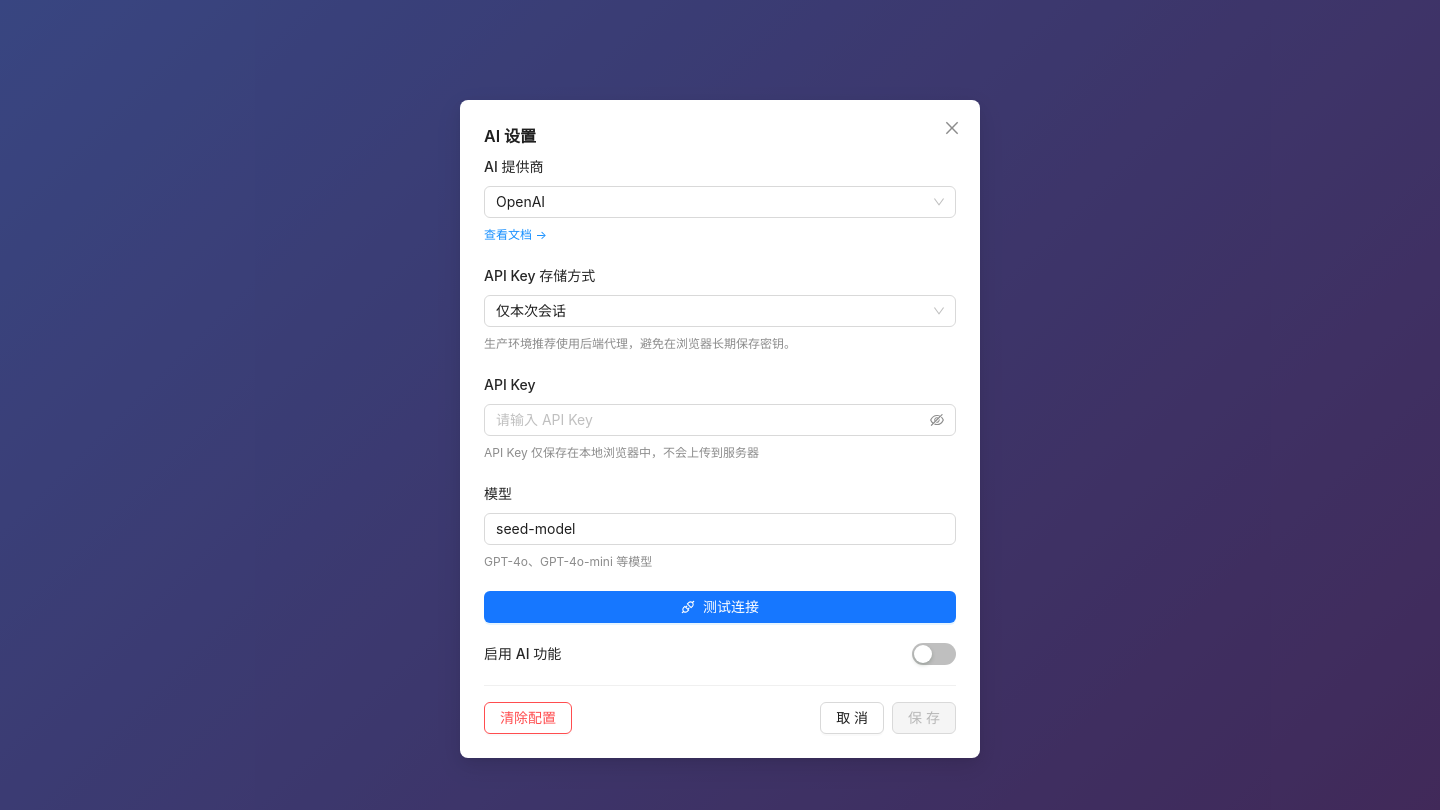
Scenario: AiSettingsModal 连接测试的四种结果 › provider 没给原始错误时退回语言包文案，不把 key 漏给用户
Click the button "测试连接": (720, 607) [484,591,956,623]
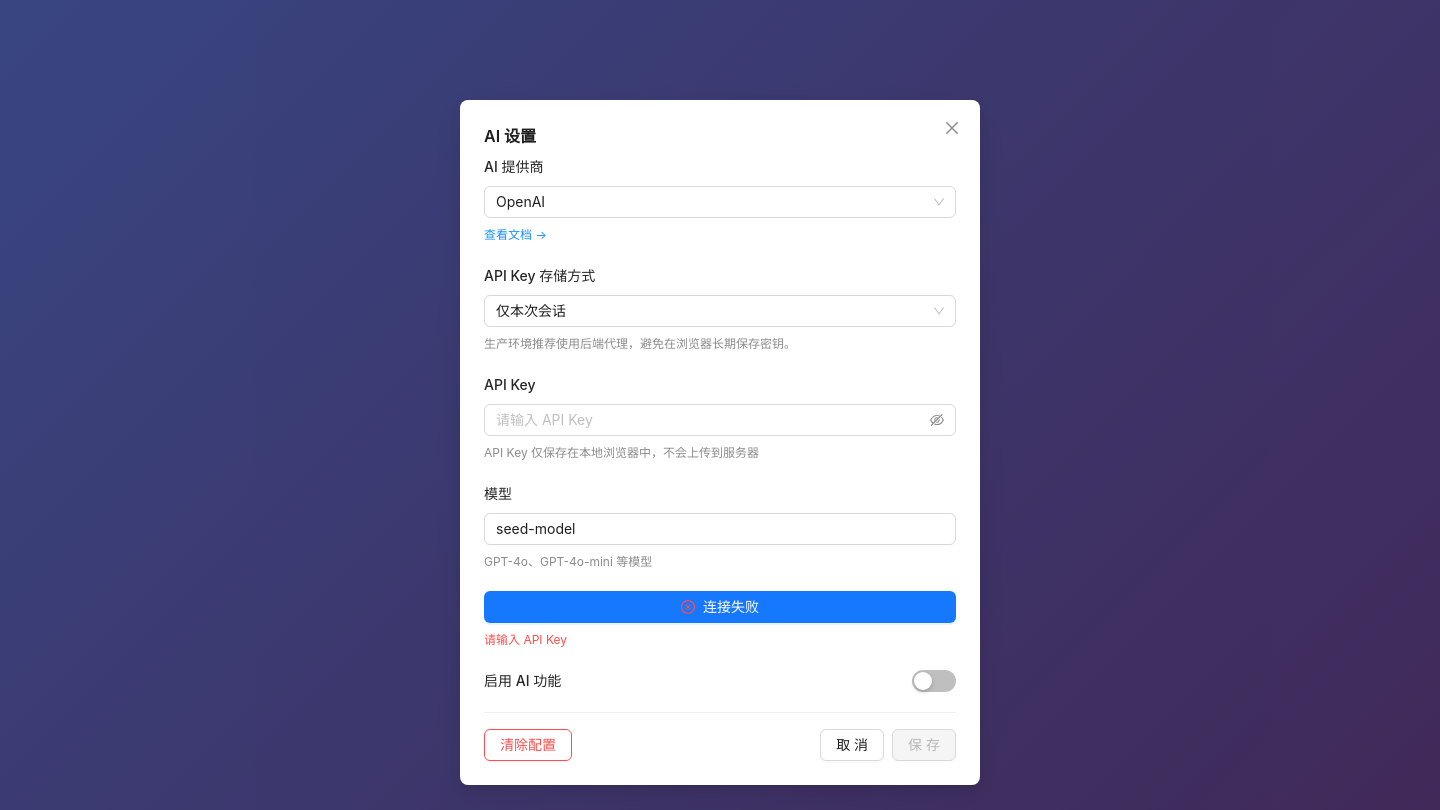
Now the text with class "ai-settings__error" reads "请输入 API Key", box [484,632,567,647]
